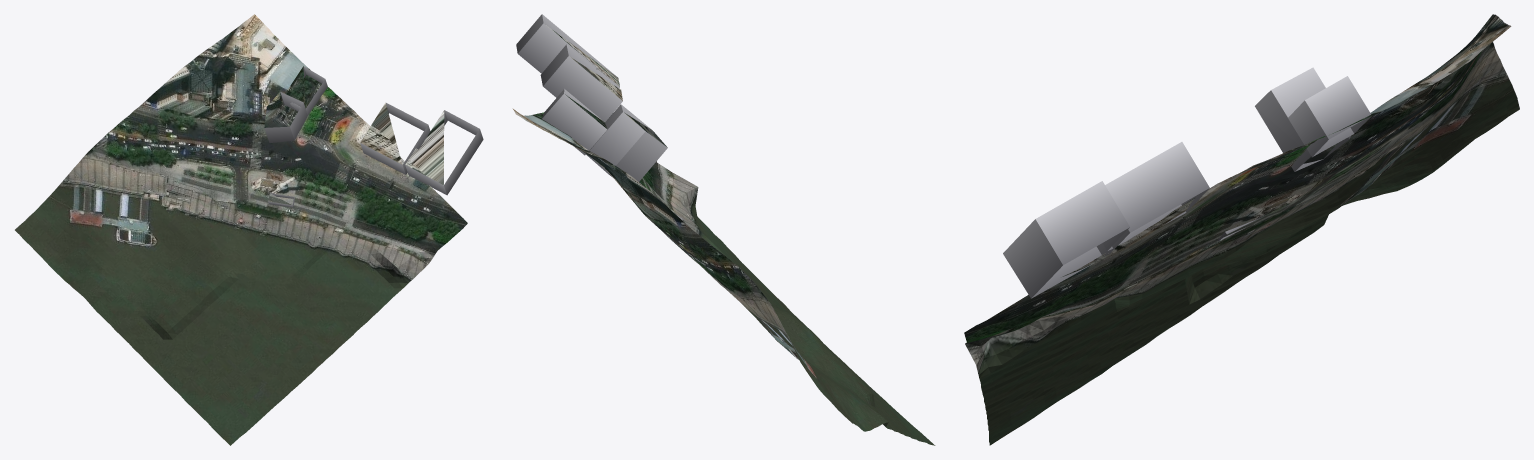
3 renders of one model, left to right at view 1: azimuth 30°, elevation 25°; view 2: azimuth 150°, elevation 25°; view 3: azimuth 270°, elevation 25°, orthographic. The views are drawn at different scales.
Size of the model in its own units: 325 by 260 by 230.
Materials: 1 (1 with a texture image).
